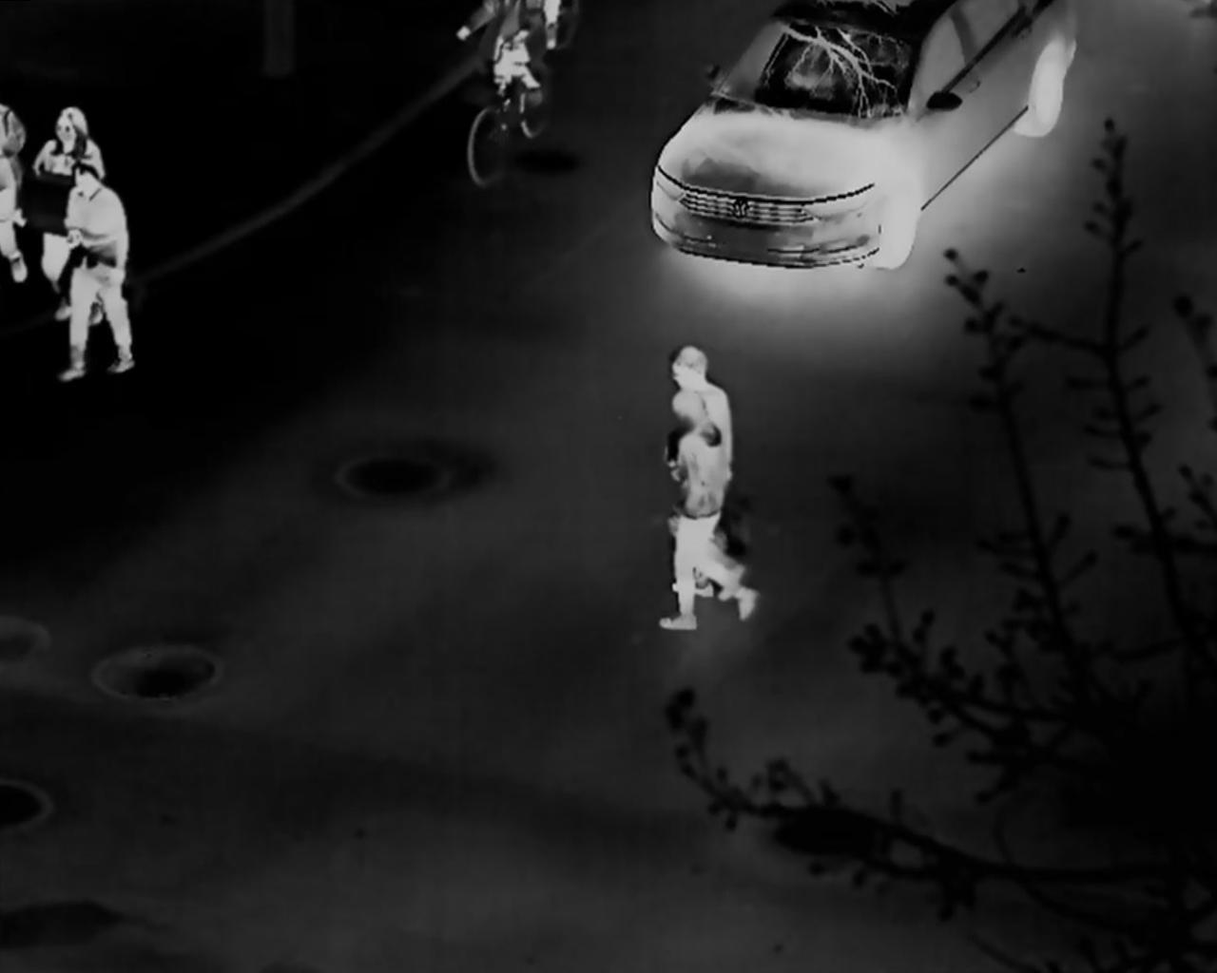person: (654, 389, 762, 635), (53, 158, 137, 383), (666, 348, 738, 601), (36, 104, 108, 321), (2, 101, 32, 286)
